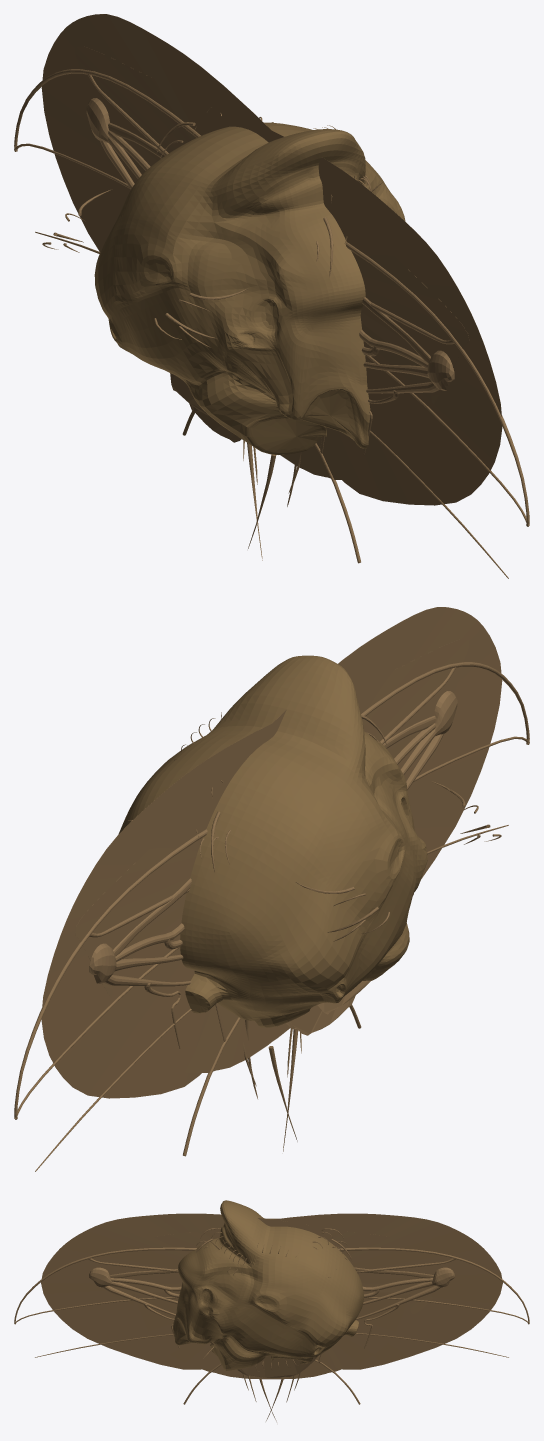
The model's file is flybody.glb.
3 renders of one model, top to bottom at view 1: azimuth 30°, elevation 25°; view 2: azimuth 150°, elevation 25°; view 3: azimuth 270°, elevation 25°, orthographic. The views are drawn at different scales.
Parts seen in each view (by area): view 1: thorax, wing_left_membrane, wing_right_membrane, wing_left_brown, wing_right_brown, thorax_black; view 2: thorax, wing_right_membrane, wing_left_membrane, wing_right_brown, wing_left_brown, thorax_black, abdomen_4; view 3: thorax, wing_left_membrane, wing_right_membrane, wing_left_brown, wing_right_brown, abdomen_4, thorax_black.
Part boxes in pixels (x1=…): thorax: x1=94, y1=122, x2=405, y2=454; wing_left_membrane: x1=74, y1=46, x2=502, y2=505; wing_right_membrane: x1=41, y1=14, x2=468, y2=479; wing_left_brown: x1=86, y1=98, x2=529, y2=578; wing_right_brown: x1=14, y1=69, x2=454, y2=455; thorax_black: x1=42, y1=107, x2=371, y2=560; thorax: x1=118, y1=655, x2=427, y2=1027; wing_right_membrane: x1=41, y1=639, x2=469, y2=1098; wing_left_membrane: x1=75, y1=607, x2=502, y2=1072; wing_right_brown: x1=14, y1=691, x2=457, y2=1171; wing_left_brown: x1=89, y1=662, x2=529, y2=1048; thorax_black: x1=196, y1=715, x2=501, y2=1151; abdomen_4: x1=289, y1=996, x2=355, y2=1035; thorax: x1=173, y1=1200, x2=363, y2=1370; wing_left_membrane: x1=41, y1=1213, x2=432, y2=1379; wing_right_membrane: x1=111, y1=1213, x2=502, y2=1379; wing_left_brown: x1=14, y1=1247, x2=454, y2=1404; wing_right_brown: x1=89, y1=1247, x2=529, y2=1404; abdomen_4: x1=239, y1=1356, x2=317, y2=1378; thorax_black: x1=196, y1=1228, x2=352, y2=1421.
Bounding box in the file's own units: 0.1043 × 0.1518 × 0.3129.
